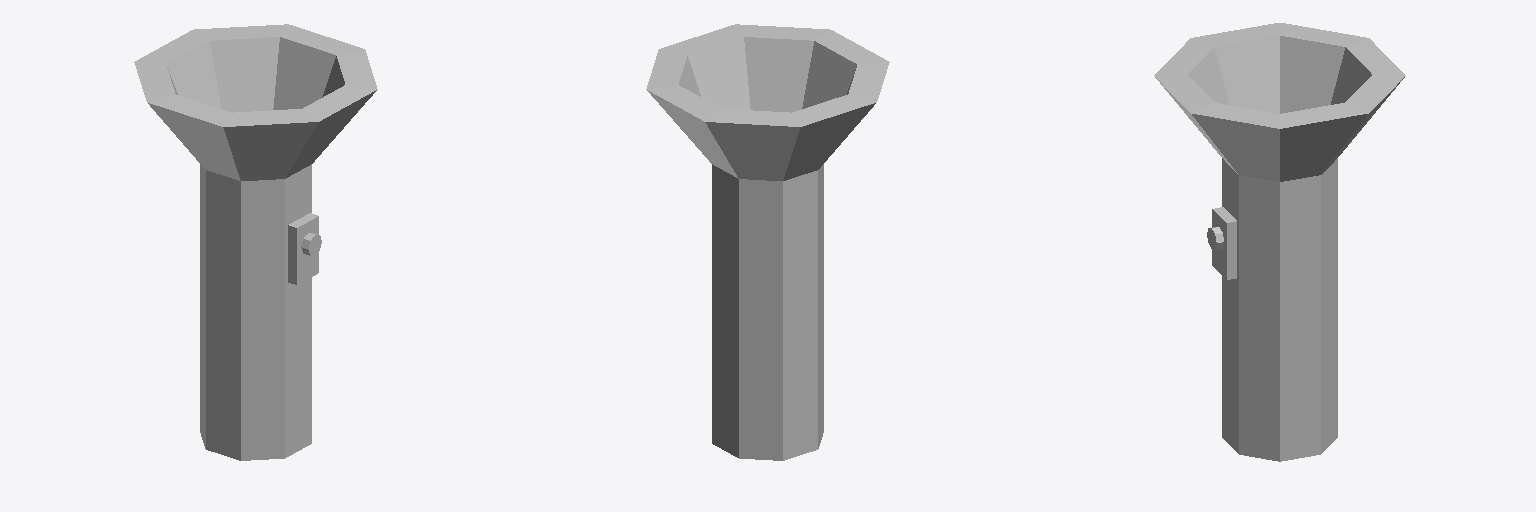
The model's file is Flashlight_1920.obj.
3 renders of one model, left to right at view 1: azimuth 30°, elevation 25°; view 2: azimuth 150°, elevation 25°; view 3: azimuth 270°, elevation 25°, orthographic.
Visible parts, largest first — view 1: Flashlight; view 2: Flashlight; view 3: Flashlight.
Part boxes in pixels (bbox=[...]): Flashlight: bbox=[134, 24, 377, 460]; Flashlight: bbox=[646, 24, 889, 460]; Flashlight: bbox=[1154, 23, 1405, 461].
Bounding box in the file's own units: 4.33 × 6.86 × 4.33.